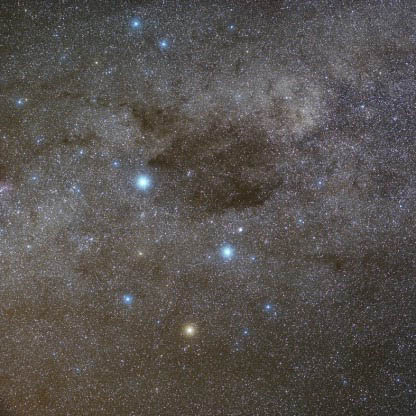Southern Cross: (118, 162, 167, 203), (215, 237, 242, 264), (176, 318, 201, 339), (117, 286, 139, 308)
